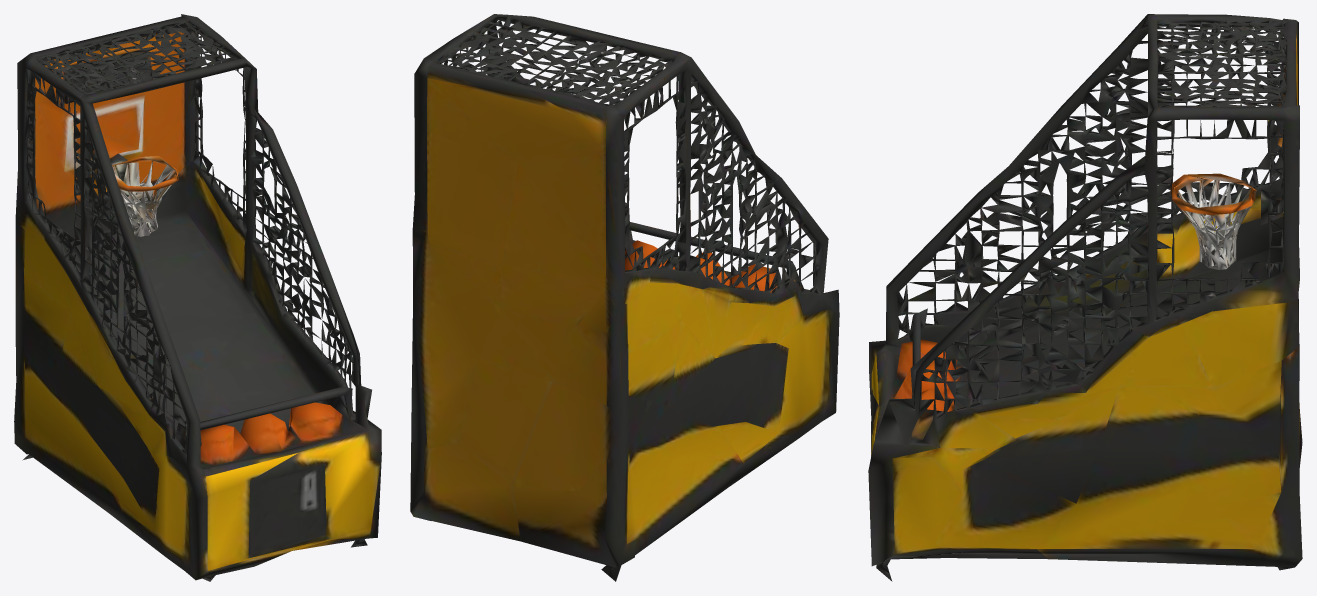
Rendered from hoops.glb.
The picture shows the model from 3 angles, left to right: view 1: azimuth 30°, elevation 25°; view 2: azimuth 150°, elevation 25°; view 3: azimuth 270°, elevation 25°; orthographic projection. The views are drawn at different scales.
Parts seen in each view (by area): view 1: tripo_node_f1465f93-8e9b-42ce-806c-4c3002e78ca2; view 2: tripo_node_f1465f93-8e9b-42ce-806c-4c3002e78ca2; view 3: tripo_node_f1465f93-8e9b-42ce-806c-4c3002e78ca2.
Boxes of the visible parts, bbox=[...] form: tripo_node_f1465f93-8e9b-42ce-806c-4c3002e78ca2: bbox=[14, 14, 381, 581]; tripo_node_f1465f93-8e9b-42ce-806c-4c3002e78ca2: bbox=[410, 14, 839, 581]; tripo_node_f1465f93-8e9b-42ce-806c-4c3002e78ca2: bbox=[868, 14, 1302, 581].
Size of the model in its own units: 0.4682 by 0.9771 by 0.8131.
Materials: 1 (1 with a texture image).
